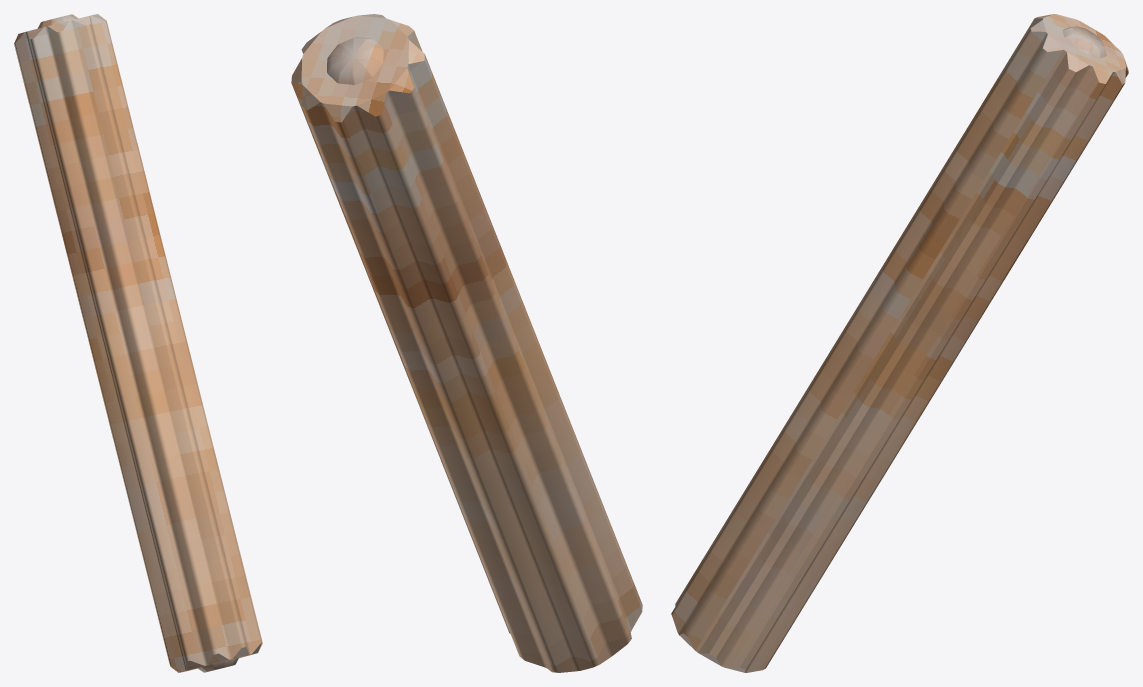
The model's file is AL_Churros_Static.fbx.
3 renders of one model, left to right at view 1: azimuth 30°, elevation 25°; view 2: azimuth 150°, elevation 25°; view 3: azimuth 270°, elevation 25°, orthographic. The views are drawn at different scales.
Visible parts, largest first — view 1: Churro1_Low; view 2: Churro1_Low; view 3: Churro1_Low.
Boxes of the visible parts, <box> form: Churro1_Low: <box>14,14,262,672</box>; Churro1_Low: <box>291,14,642,672</box>; Churro1_Low: <box>671,14,1128,672</box>.
Size of the model in its own units: 0.1768 by 0.2741 by 0.0435.
